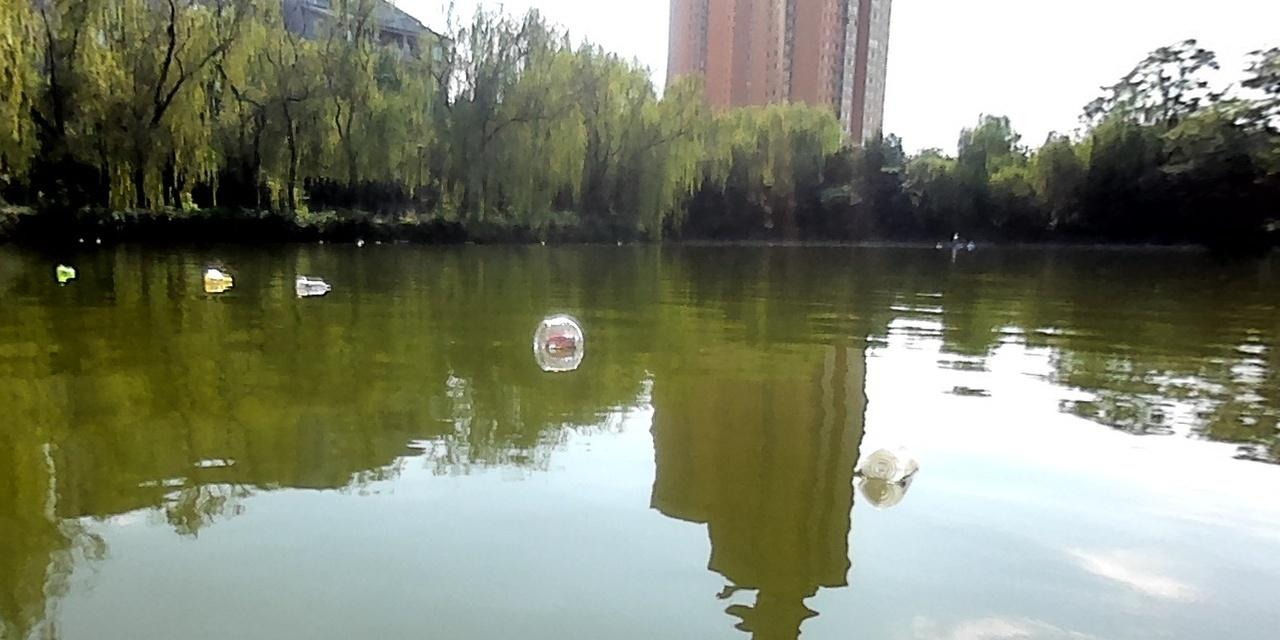bottle: (853, 440, 919, 481), (532, 312, 585, 352), (293, 274, 331, 291), (203, 268, 233, 282), (53, 263, 73, 274)
